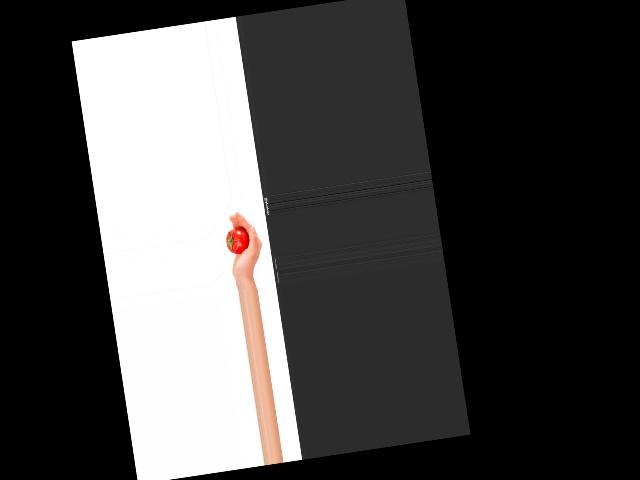tomato: (225, 227, 251, 256)
